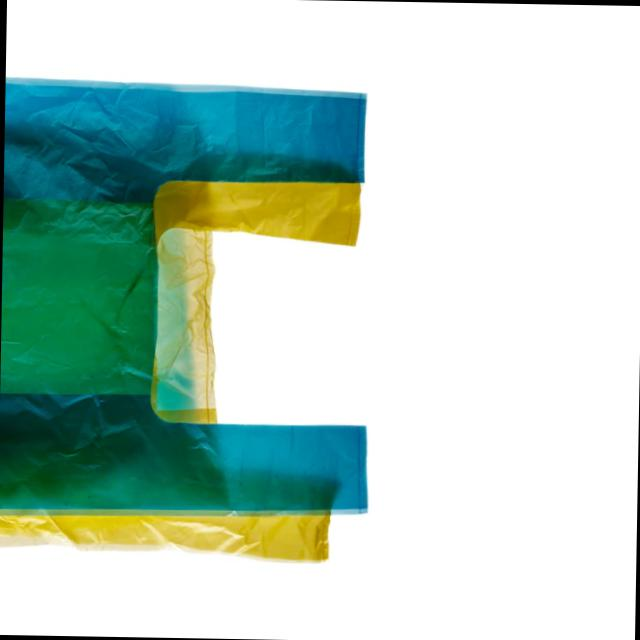plastic_bag: (0, 58, 395, 618)
